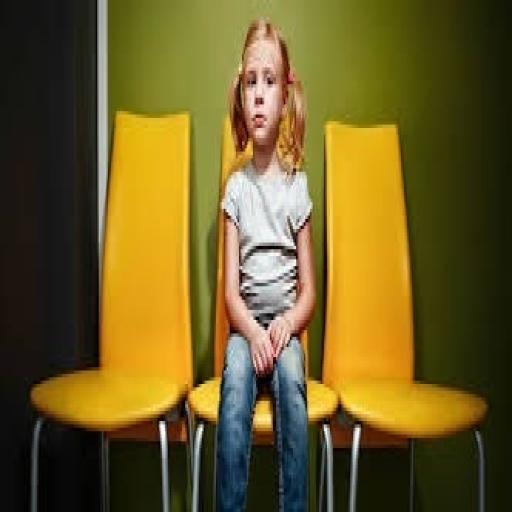sitting: (213, 14, 318, 508)
